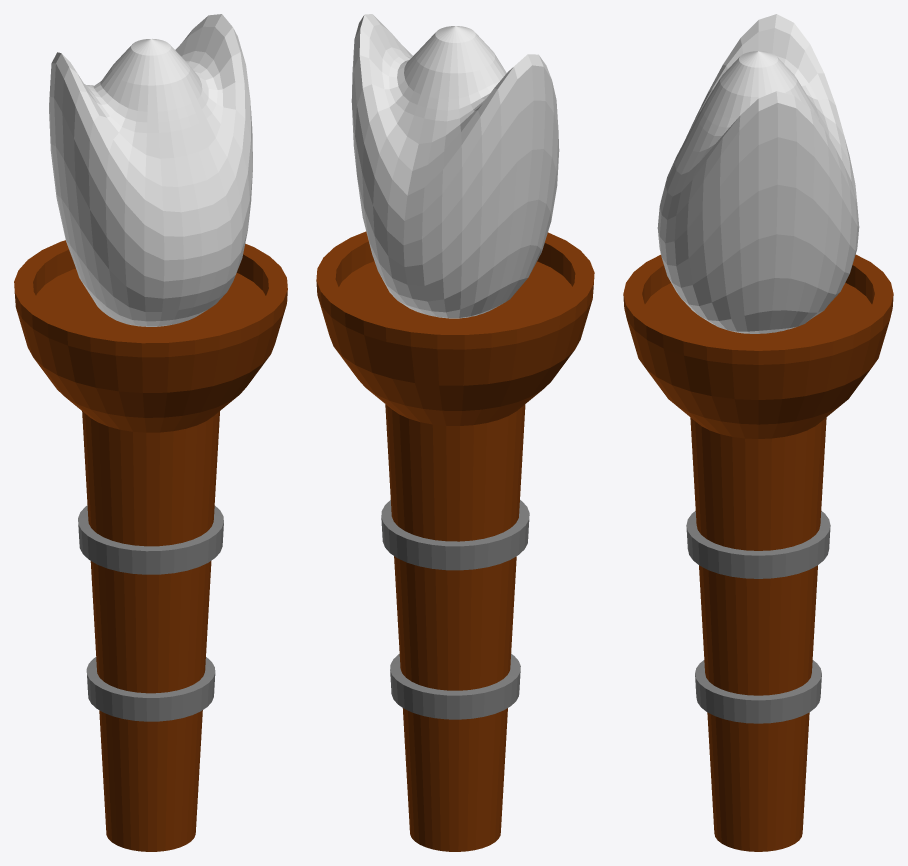
File: torch.glb
The picture shows the model from 3 angles, left to right: view 1: azimuth 30°, elevation 25°; view 2: azimuth 150°, elevation 25°; view 3: azimuth 270°, elevation 25°; orthographic projection. The views are drawn at different scales.
Visible parts, largest first — view 1: torch; view 2: torch; view 3: torch.
Boxes of the visible parts, <box> form: torch: <box>14,14,287,851</box>; torch: <box>316,14,594,851</box>; torch: <box>623,14,893,851</box>.
Bounding box in the file's own units: 0.1021 × 0.326 × 0.1021.
